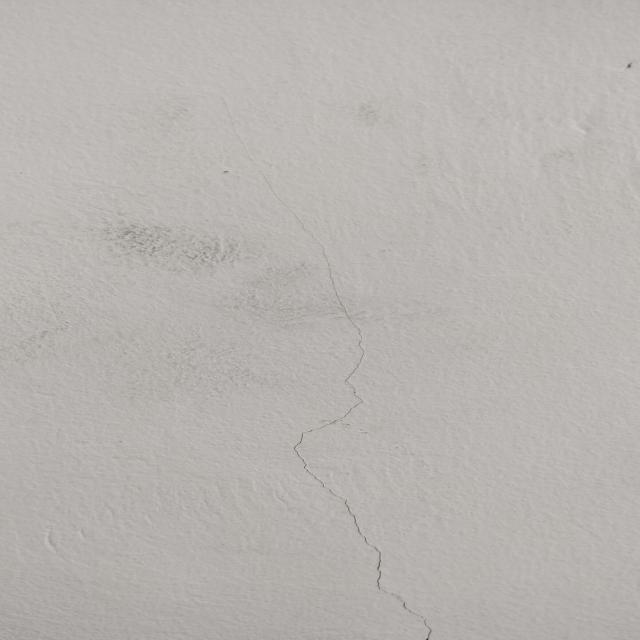Crack: (287, 180, 455, 640)
